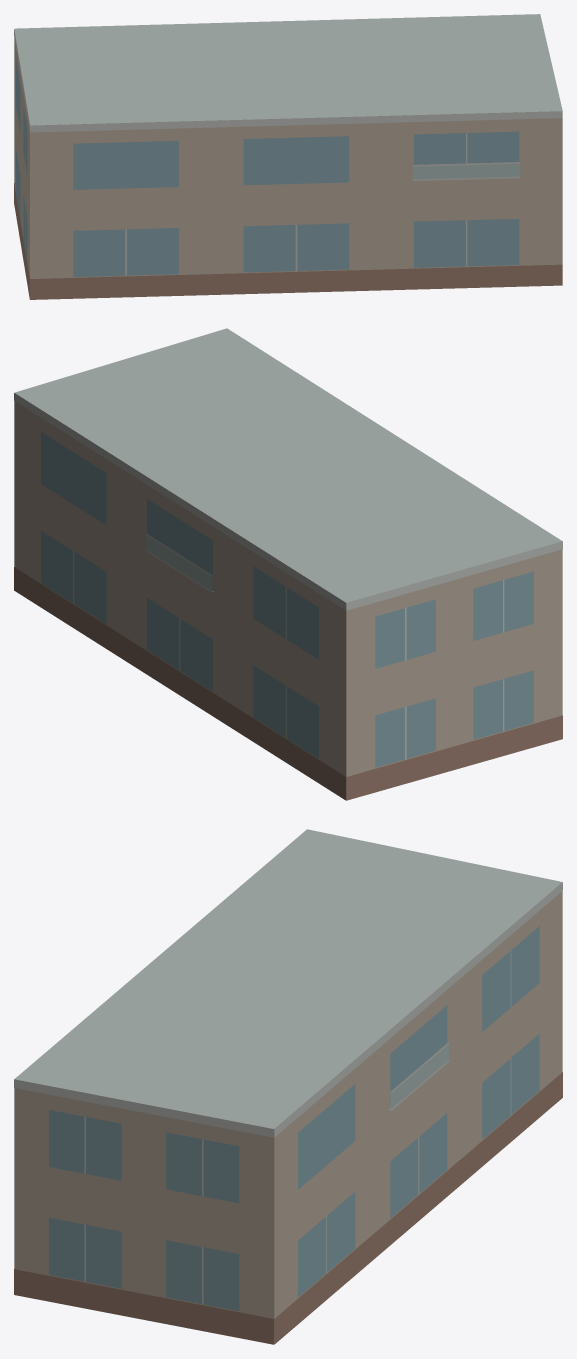
File: survey-upis-33013625.glb
The picture shows the model from 3 angles, top to bottom: view 1: azimuth 30°, elevation 25°; view 2: azimuth 150°, elevation 25°; view 3: azimuth 270°, elevation 25°; orthographic projection. The views are drawn at different scales.
Parts seen in each view (by area): view 1: survey-upis-33013625.tmp; view 2: survey-upis-33013625.tmp; view 3: survey-upis-33013625.tmp.
Part boxes in pixels (left/top/right/bottom): survey-upis-33013625.tmp: left=14, top=14, right=562, bottom=299; survey-upis-33013625.tmp: left=14, top=328, right=562, bottom=800; survey-upis-33013625.tmp: left=14, top=829, right=562, bottom=1344.
Bounding box in the file's own units: 18.21 × 6.1 × 14.08.
